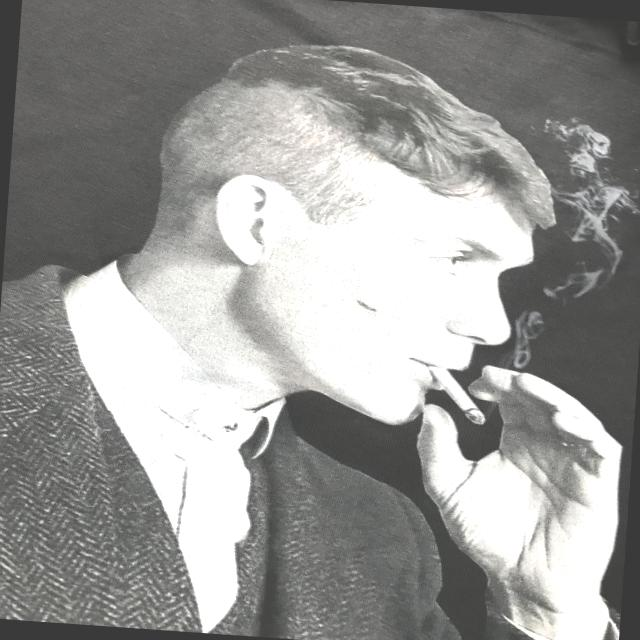cigarette: (421, 371, 504, 444)
